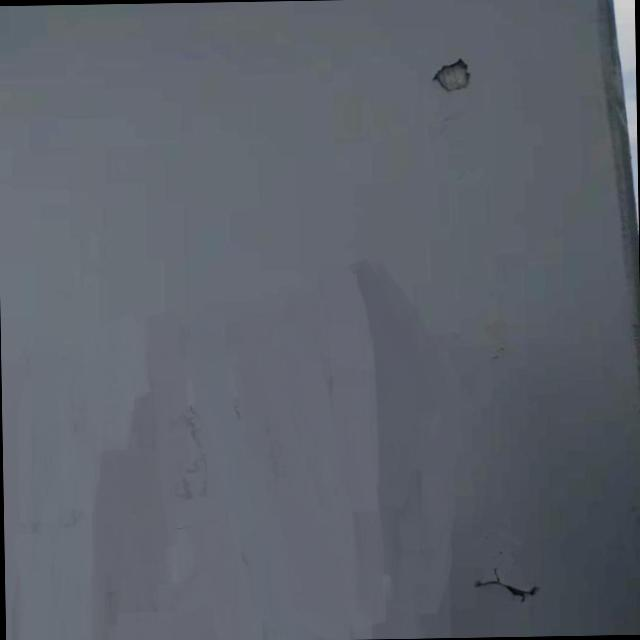crack: (474, 565, 539, 605)
surface_peeling: (430, 56, 472, 94)
